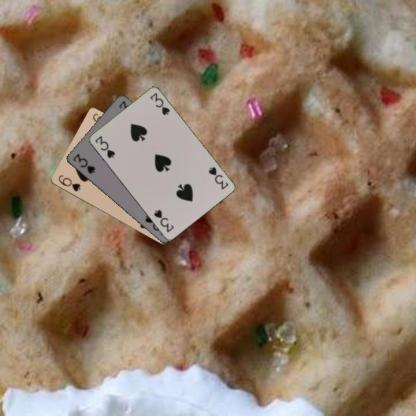3s: (70, 150, 96, 176), (92, 132, 116, 160), (206, 164, 229, 191)
6s: (56, 172, 82, 193)
